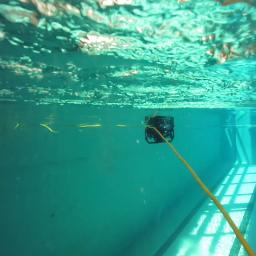Side: (144, 124, 175, 144), (145, 126, 175, 144)
